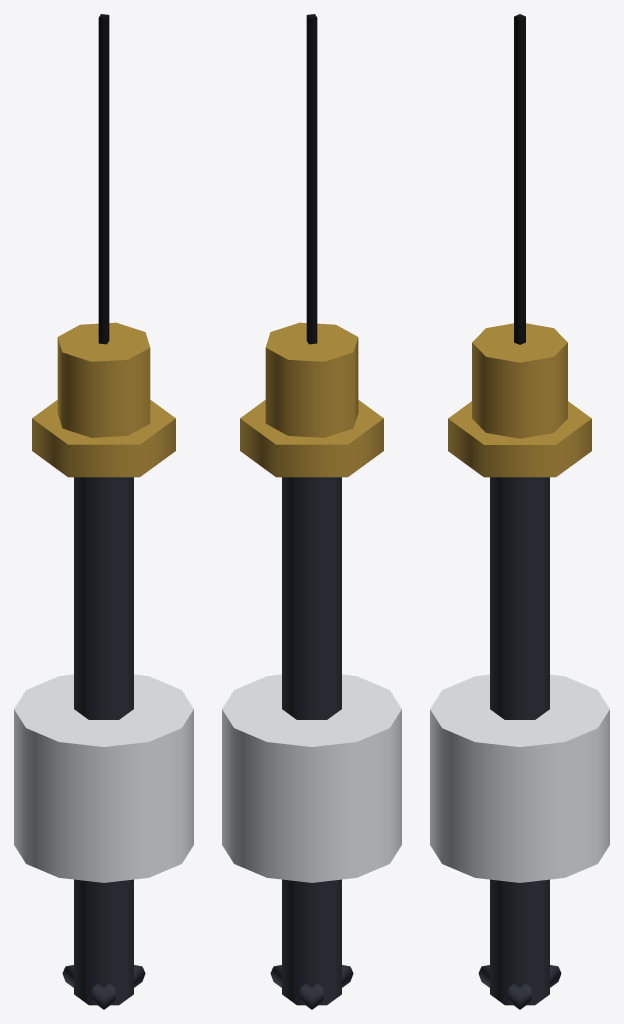
The model's file is sensor-float-level.glb.
3 renders of one model, left to right at view 1: azimuth 30°, elevation 25°; view 2: azimuth 150°, elevation 25°; view 3: azimuth 270°, elevation 25°, orthographic.
Parts seen in each view (by area): view 1: float_ring, float_stem, float_bulkhead, float_nut, float_cable, float_stop; view 2: float_ring, float_stem, float_bulkhead, float_nut, float_cable, float_stop; view 3: float_ring, float_stem, float_bulkhead, float_nut, float_cable, float_stop.
Part boxes in pixels (box(x1,y1,x2,y2)): float_ring: box(14, 674, 193, 882); float_stem: box(74, 477, 133, 1005); float_bulkhead: box(57, 322, 150, 437); float_nut: box(32, 400, 175, 477); float_cable: box(98, 14, 109, 344); float_stop: box(62, 965, 145, 1009); float_ring: box(222, 674, 401, 882); float_stem: box(282, 477, 341, 1005); float_bulkhead: box(265, 322, 358, 437); float_nut: box(240, 400, 383, 477); float_cable: box(306, 14, 317, 344); float_stop: box(270, 965, 353, 1009); float_ring: box(430, 674, 609, 882); float_stem: box(490, 477, 549, 1005); float_bulkhead: box(472, 323, 567, 438); float_nut: box(448, 401, 591, 477); float_cable: box(514, 14, 525, 344); float_stop: box(478, 965, 561, 1009).
Size of the model in its own units: 0.03 by 0.18 by 0.03.
